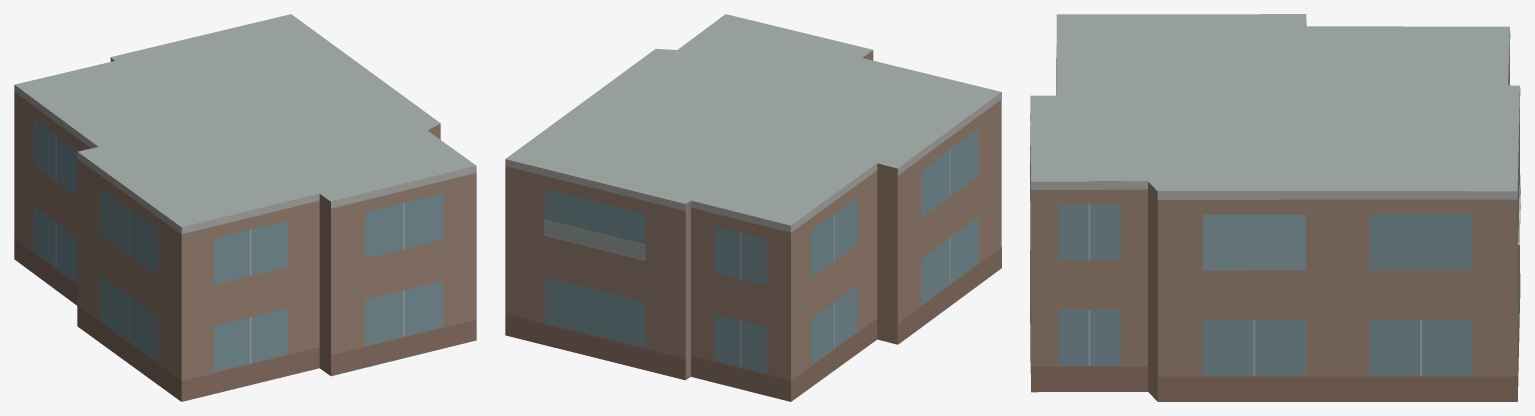
The model's file is survey-upis-32818674.glb.
3 renders of one model, left to right at view 1: azimuth 30°, elevation 25°; view 2: azimuth 150°, elevation 25°; view 3: azimuth 270°, elevation 25°, orthographic. The views are drawn at different scales.
Parts seen in each view (by area): view 1: survey-upis-32818674.tmp; view 2: survey-upis-32818674.tmp; view 3: survey-upis-32818674.tmp.
Boxes of the visible parts, left/top/right/bottom form: survey-upis-32818674.tmp: left=14, top=14, right=476, bottom=401; survey-upis-32818674.tmp: left=505, top=14, right=1001, bottom=401; survey-upis-32818674.tmp: left=1030, top=14, right=1520, bottom=401.
Size of the model in its own units: 11.04 by 6.1 by 12.9.
